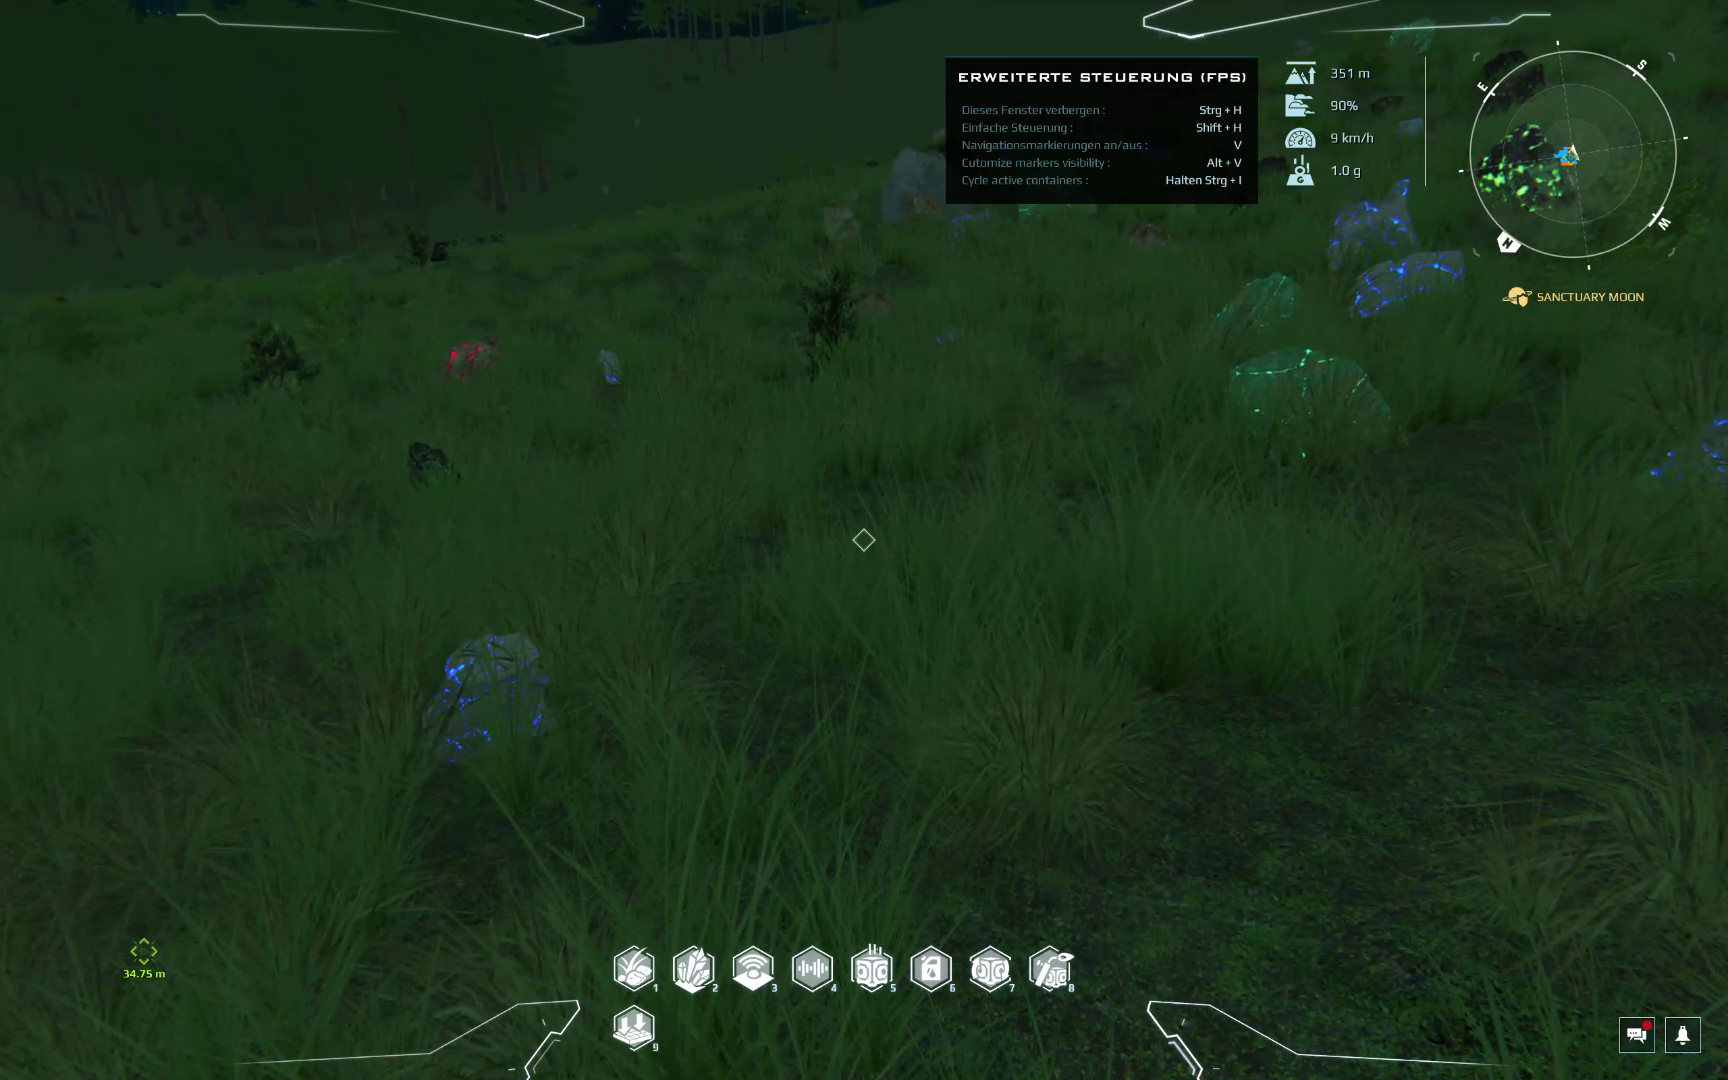Ore: (396, 628, 574, 771), (1230, 341, 1419, 467), (1349, 244, 1480, 333), (1623, 409, 1727, 516), (1197, 263, 1316, 350), (1317, 192, 1414, 260), (430, 324, 519, 386), (396, 437, 471, 506), (586, 340, 637, 409)
